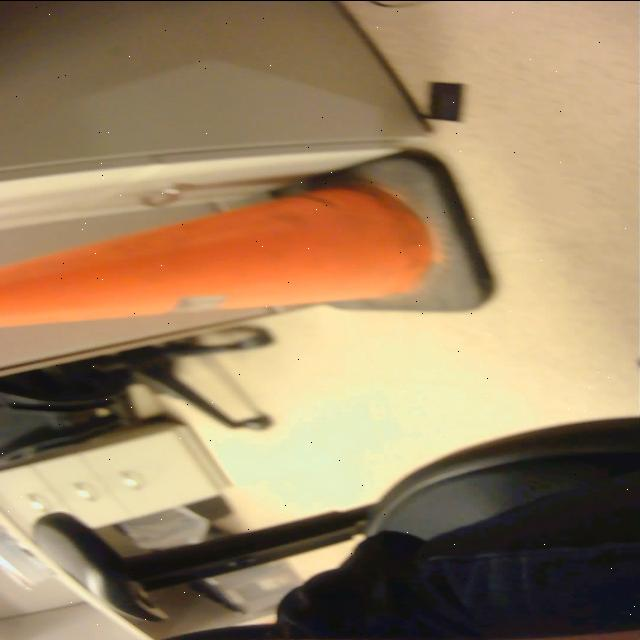traffic cone: (4, 143, 506, 333)
